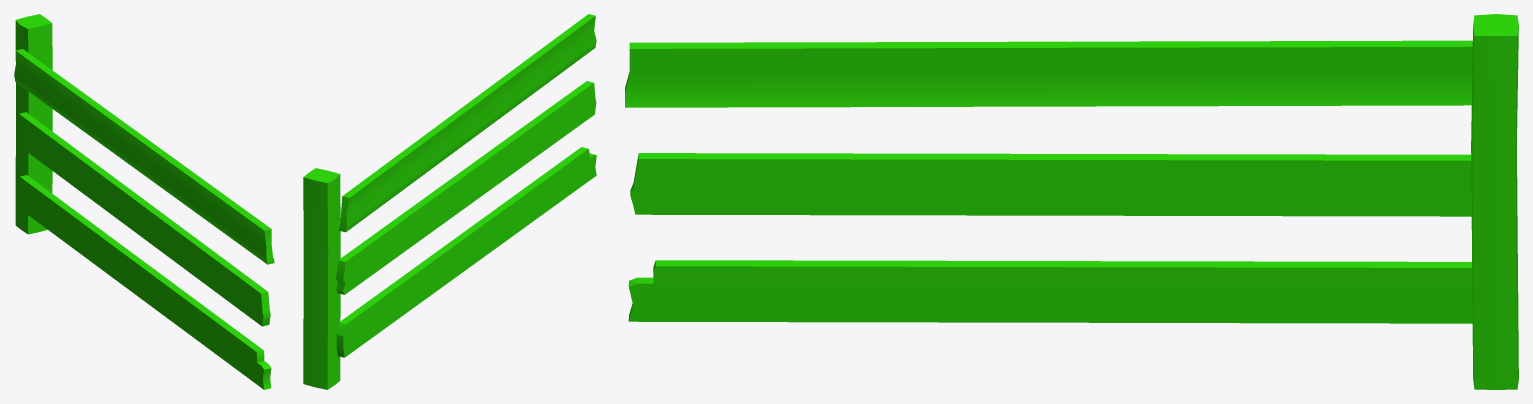
File: Farm_Fence_01B.fbx
3 renders of one model, left to right at view 1: azimuth 30°, elevation 25°; view 2: azimuth 150°, elevation 25°; view 3: azimuth 270°, elevation 25°, orthographic. The views are drawn at different scales.
Visible parts, largest first — view 1: Farm_Fence_01B; view 2: Farm_Fence_01B; view 3: Farm_Fence_01B.
Boxes of the visible parts, <box> form: Farm_Fence_01B: <box>14,14,274,389</box>; Farm_Fence_01B: <box>303,14,596,389</box>; Farm_Fence_01B: <box>625,14,1518,389</box>.
Bounding box in the file's own units: 24.4 × 134 × 308.
